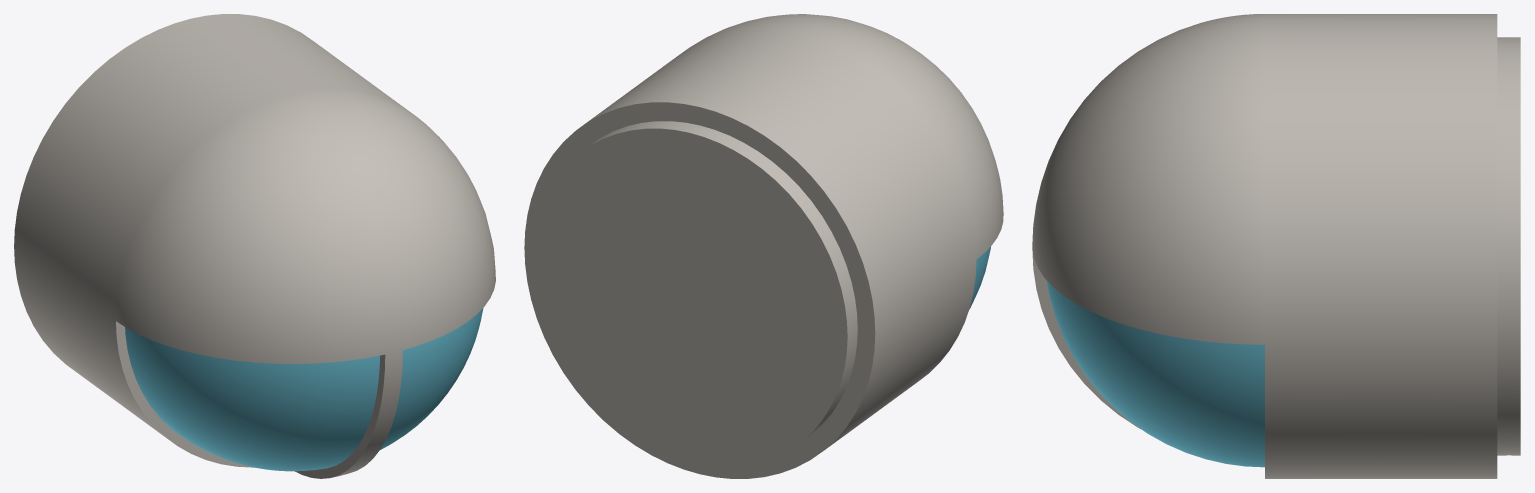
Rendered from SpaceShip_Capsule v2.fbx.
3 views of the same model, side by side, from view 1: azimuth 30°, elevation 25°; view 2: azimuth 150°, elevation 25°; view 3: azimuth 270°, elevation 25° (orthographic). The views are drawn at different scales.
Visible parts, largest first — view 1: Body1; view 2: Body1; view 3: Body1.
Boxes of the visible parts, x1,y1,x2,y2 form: Body1: (14,14,495,478); Body1: (524,14,1003,478); Body1: (1032,14,1520,478).
Bounding box in the file's own units: 2000 × 2000 × 2100.
